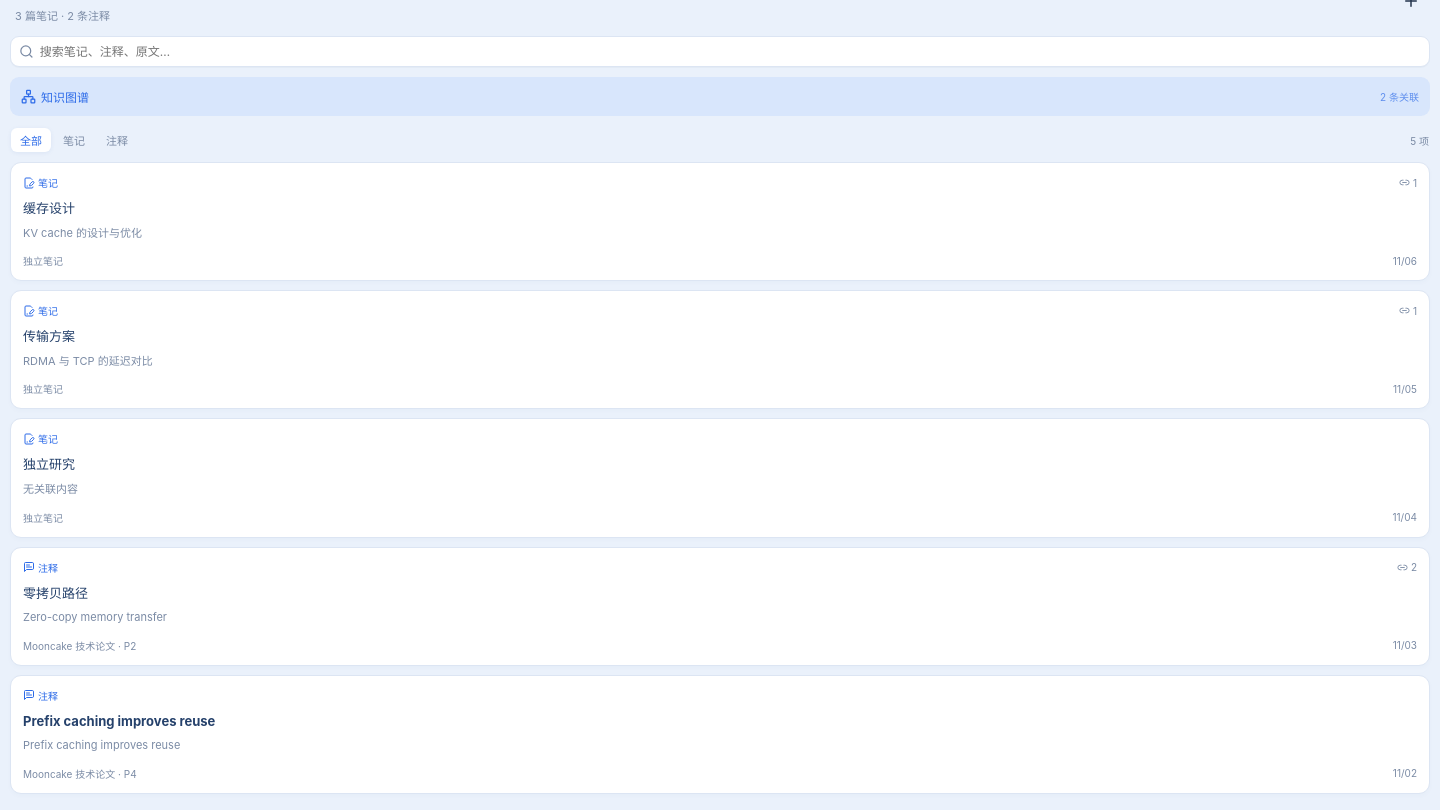
Test case: expands only the clicked note and never opens the graph without its dedicated button
This screenshot has width=1440, height=810.
(page scrolled)
Click the button "笔记 1 缓存设计 KV cache 的设计与优化 独立笔记 11/06" at x=720, y=222, box [10,162,1430,281]
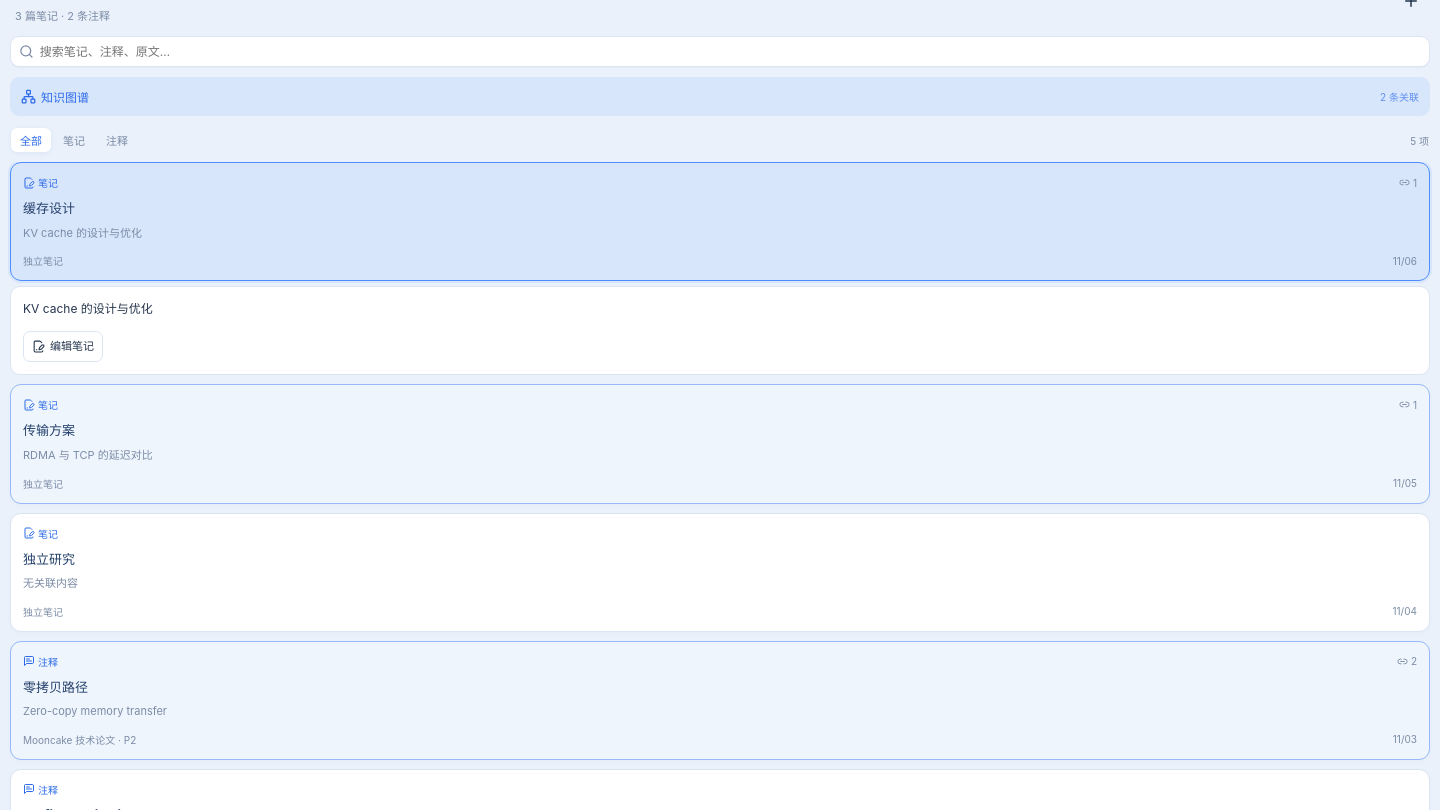
Expected: the dialog "知识关联" is not shown
Expected: the 2nd text "KV cache 的设计与优化" is shown, [23,301,153,316]
Click the button "笔记 1 传输方案 RDMA 与 TCP 的延迟对比 独立笔记 11/05" at x=720, y=444, box [10,384,1430,504]
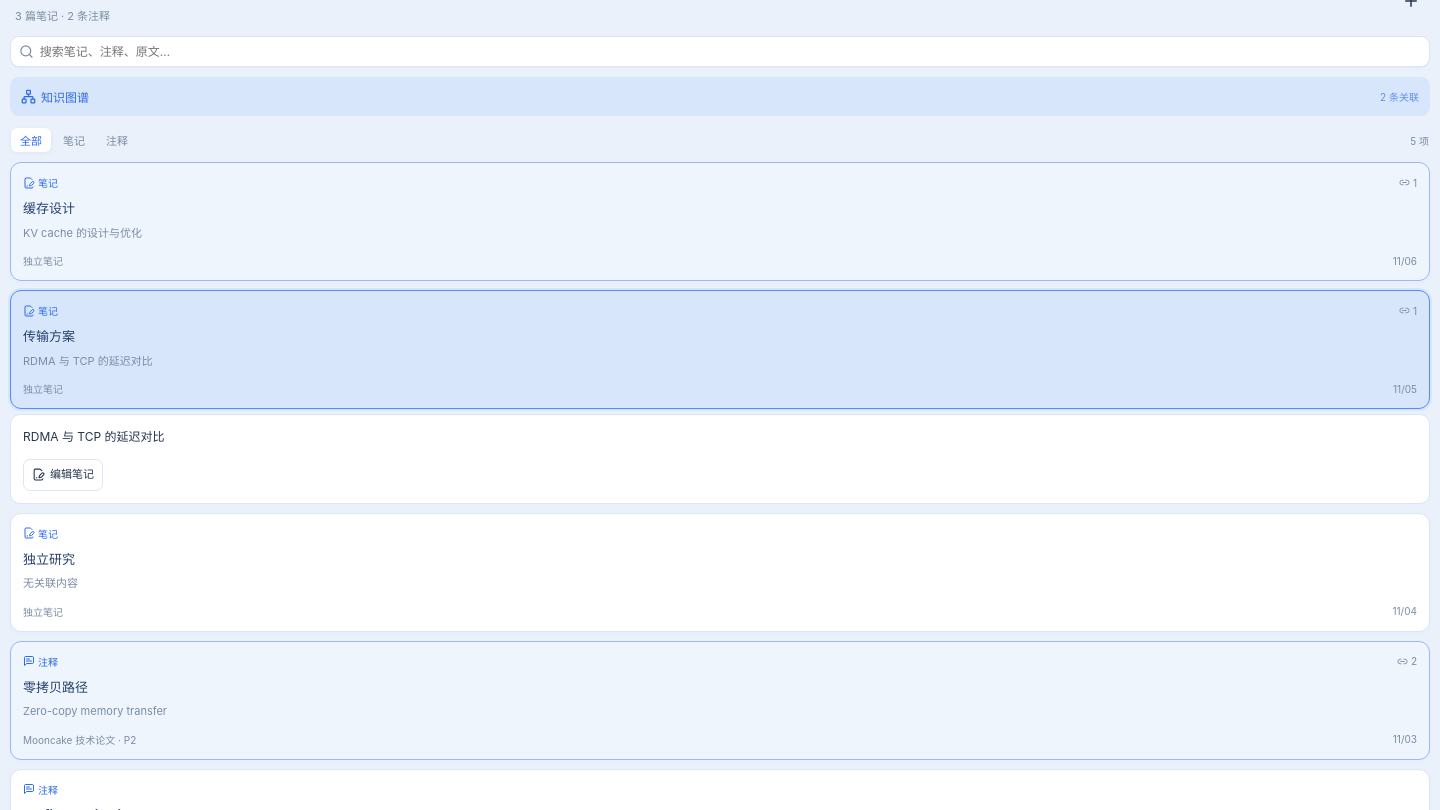
Expected: the element "笔记内容：缓存设计" is gone
Expected: the element named "笔记内容：传输方案" is shown, [10,414,1430,504]
Click the button "笔记 1 传输方案 RDMA 与 TCP 的延迟对比 独立笔记 11/05" at x=720, y=350, box [10,290,1430,409]
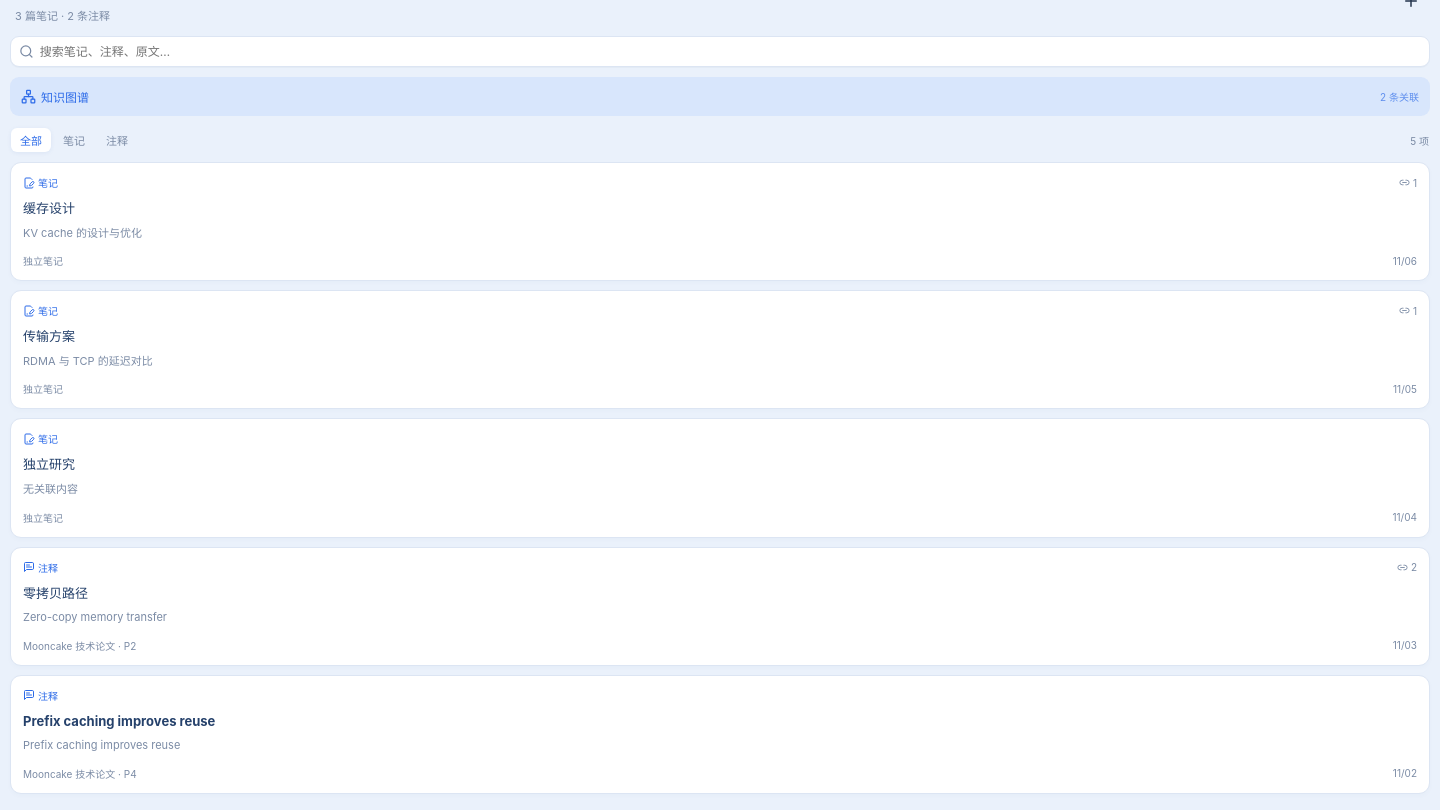
Click the button "知识图谱 2 条关联" at x=65, y=98, box [10,77,1430,116]
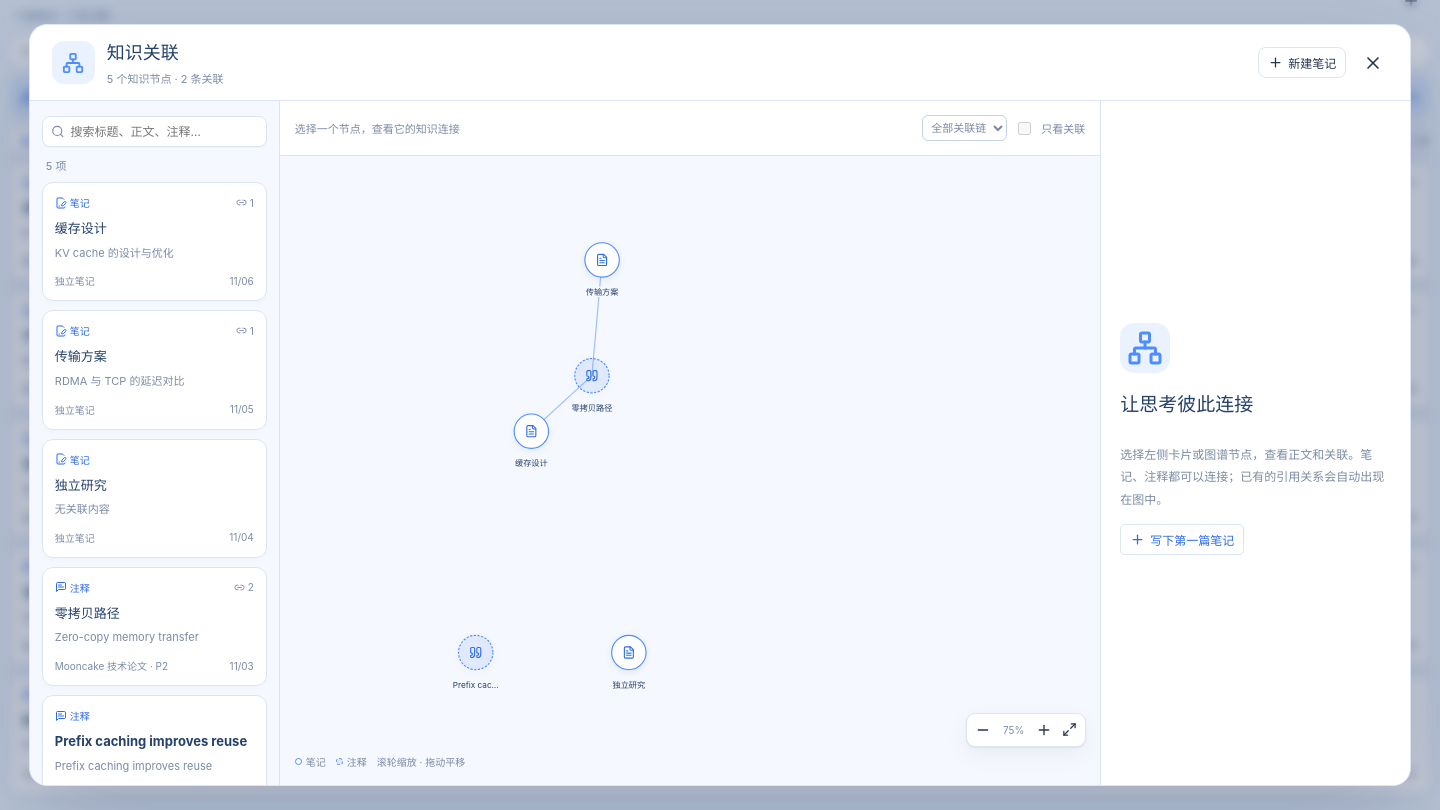
Expected: the dialog "知识关联" is shown
Click the button named "关闭知识关联" at x=1373, y=63, box [1358,48,1388,78]
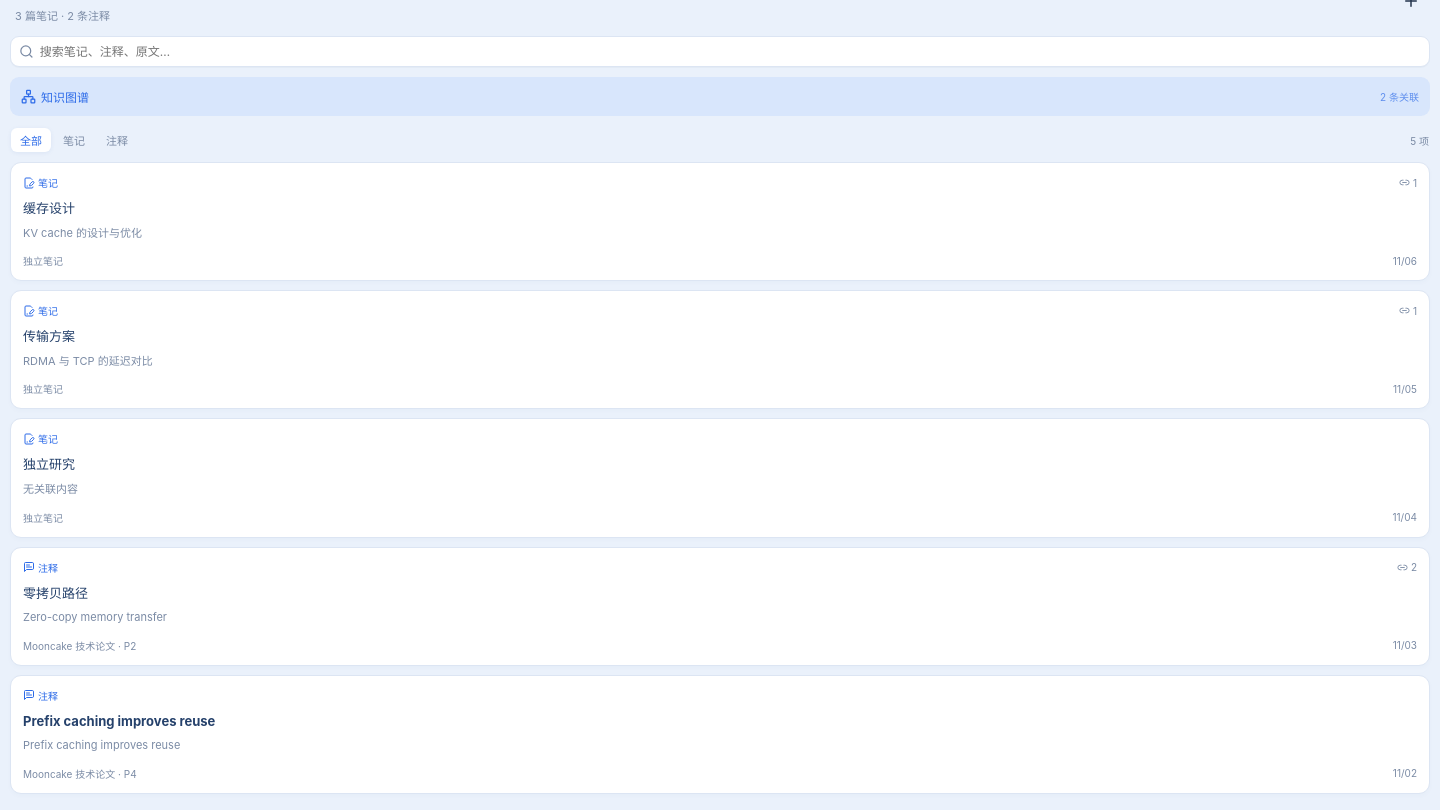
Expected: the heading "知识关联" is gone
